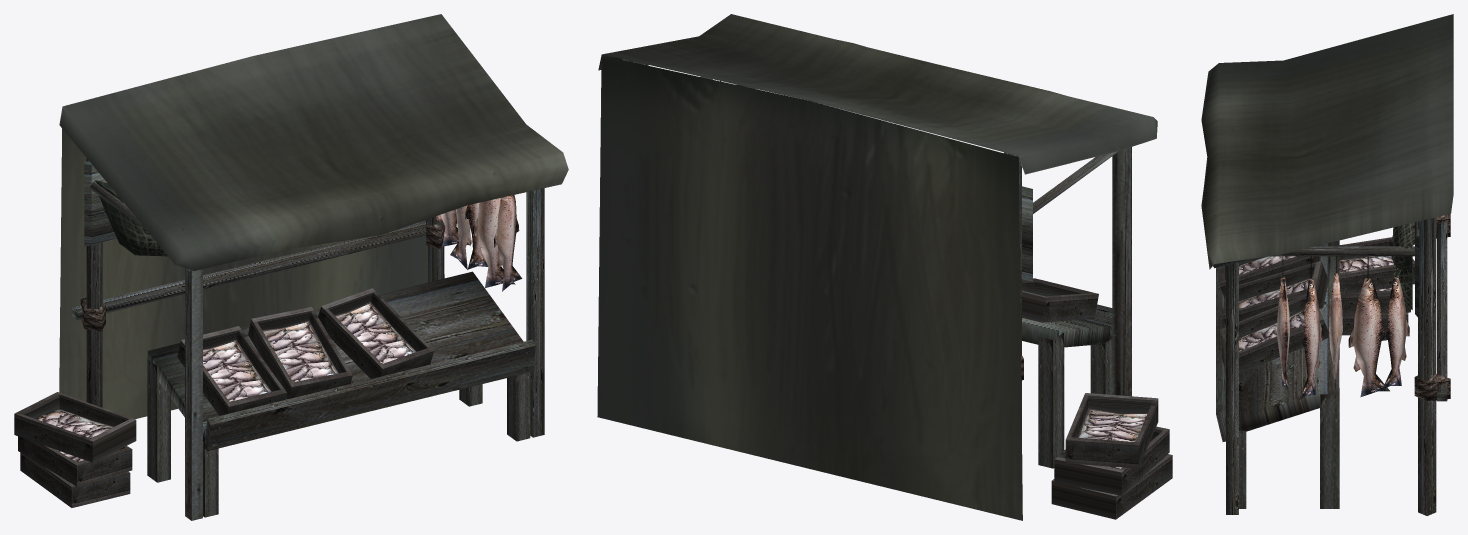
The model's file is market_fish_stall_1.fbx.
3 views of the same model, side by side, from view 1: azimuth 30°, elevation 25°; view 2: azimuth 150°, elevation 25°; view 3: azimuth 270°, elevation 25° (orthographic). The views are drawn at different scales.
Parts seen in each view (by area): view 1: U3DMesh; view 2: U3DMesh; view 3: U3DMesh.
Boxes of the visible parts, bbox=[...] form: U3DMesh: bbox=[14, 14, 568, 520]; U3DMesh: bbox=[597, 14, 1172, 520]; U3DMesh: bbox=[1201, 14, 1453, 515].
Bounding box in the file's own units: 78.45 × 54.55 × 37.75.
